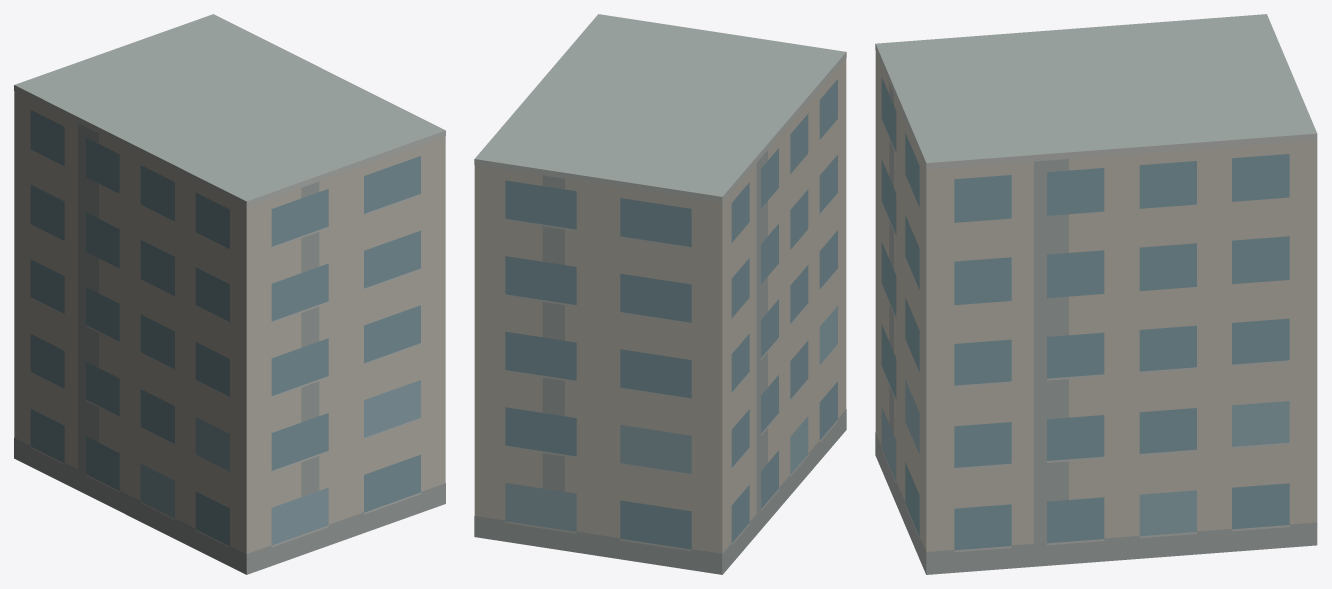
File: residential-6091d71f-15e1-4e48-be43-5080ed25a085.glb
The picture shows the model from 3 angles, left to right: view 1: azimuth 30°, elevation 25°; view 2: azimuth 150°, elevation 25°; view 3: azimuth 270°, elevation 25°; orthographic projection. The views are drawn at different scales.
Visible parts, largest first — view 1: residential-6091d71f-15e1-4e48-be43-5080ed25a085.tmp; view 2: residential-6091d71f-15e1-4e48-be43-5080ed25a085.tmp; view 3: residential-6091d71f-15e1-4e48-be43-5080ed25a085.tmp.
Part boxes in pixels (<box>): residential-6091d71f-15e1-4e48-be43-5080ed25a085.tmp: <box>14,14,445,574</box>; residential-6091d71f-15e1-4e48-be43-5080ed25a085.tmp: <box>474,14,846,574</box>; residential-6091d71f-15e1-4e48-be43-5080ed25a085.tmp: <box>875,14,1317,574</box>.
Size of the model in its own units: 11.85 by 15.25 by 14.84.
